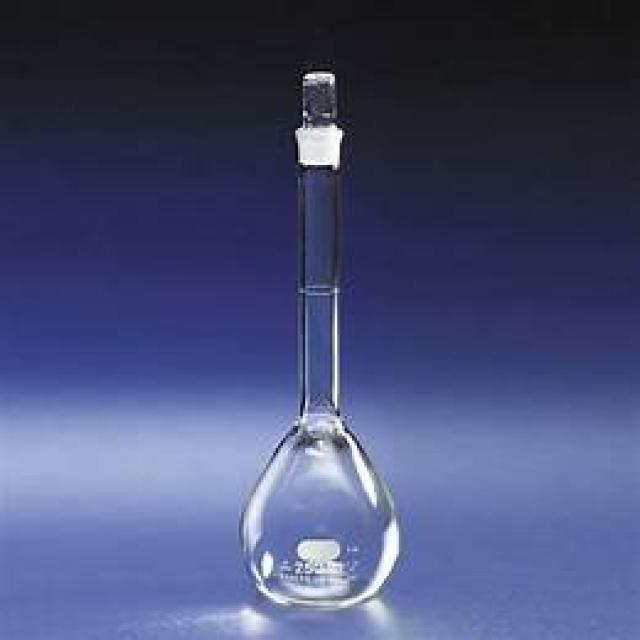Volumetric flask: (224, 57, 410, 611)
